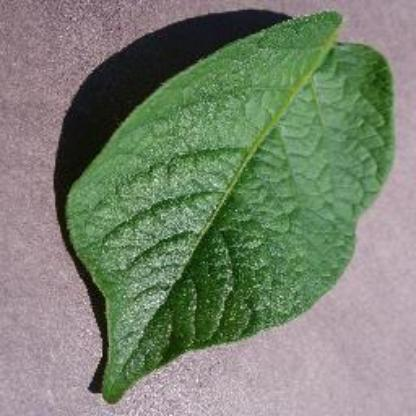Healthy-plant: (53, 6, 407, 410)
